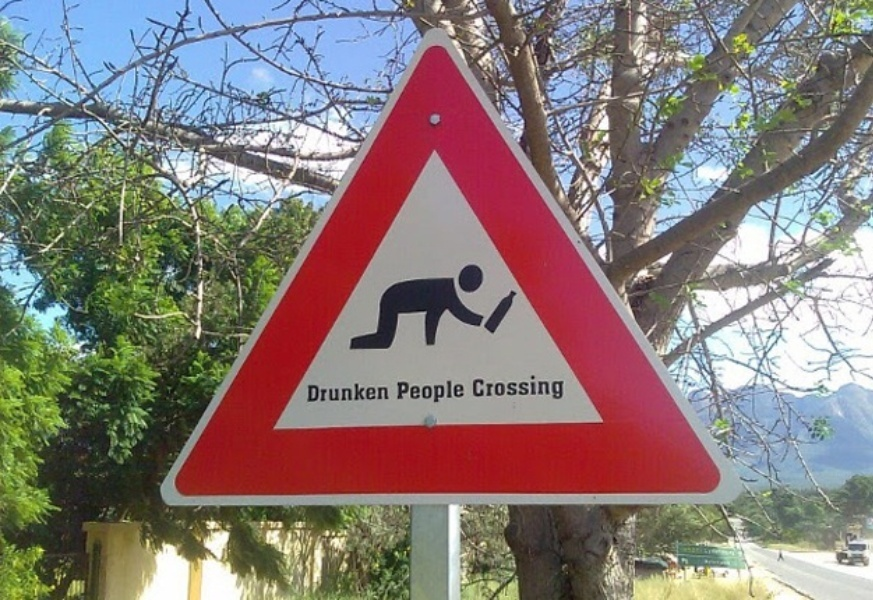text: (481, 374, 496, 401), (497, 374, 512, 401), (513, 374, 528, 401), (529, 374, 544, 401), (545, 374, 560, 401), (449, 380, 465, 402), (401, 380, 416, 402), (417, 380, 432, 402), (433, 380, 448, 402), (321, 383, 336, 402), (337, 383, 352, 402), (353, 383, 368, 402), (369, 383, 384, 402), (307, 383, 320, 402), (472, 374, 480, 401), (385, 383, 390, 402), (561, 374, 564, 401), (397, 380, 400, 402)
